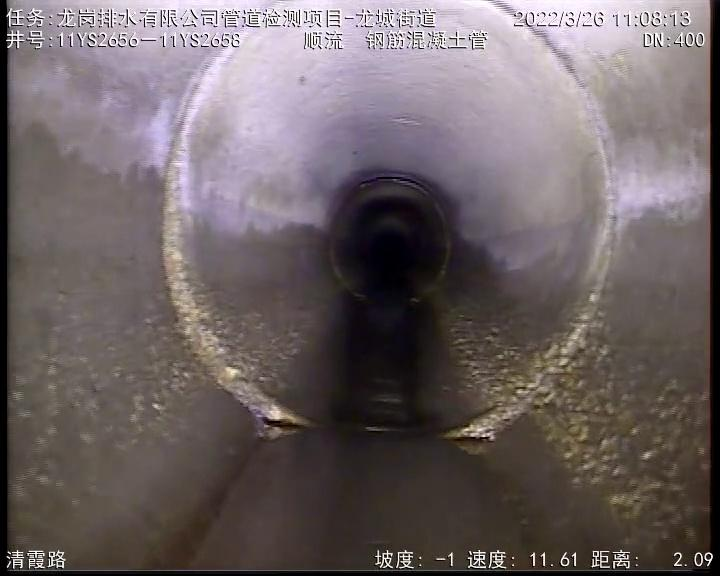CKTJ: (444, 63, 619, 440), (162, 54, 313, 431)
